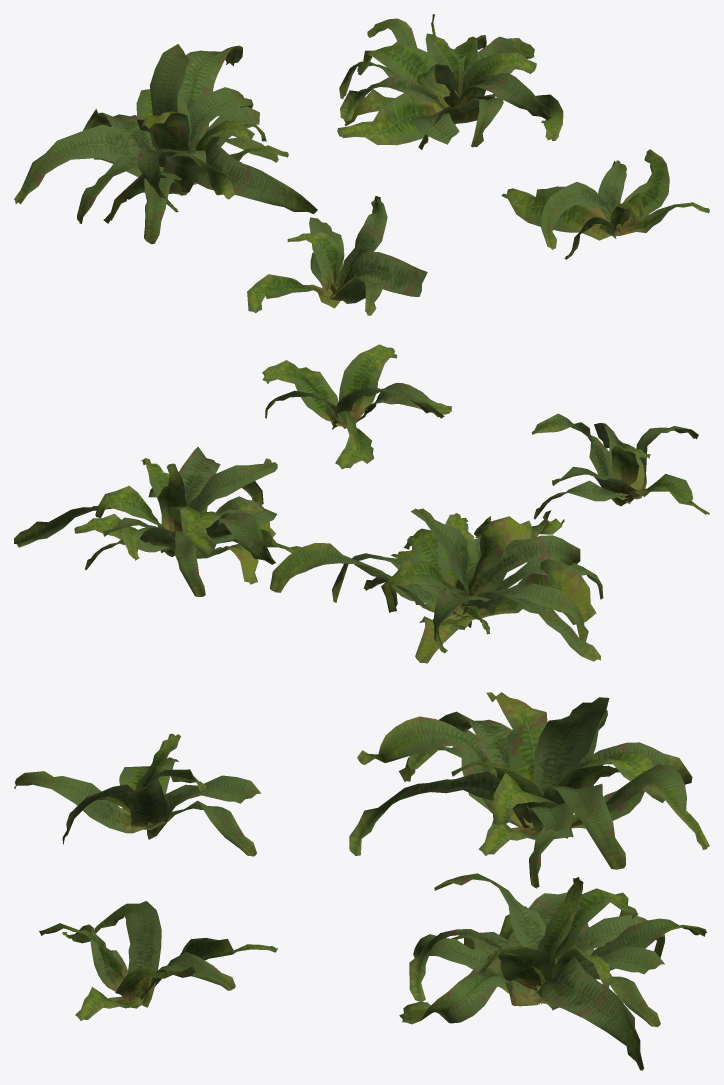
File: fern_02.glb
3 views of the same model, one above another, from view 1: azimuth 30°, elevation 25°; view 2: azimuth 150°, elevation 25°; view 3: azimuth 270°, elevation 25° (orthographic). The views are drawn at different scales.
Parts seen in each view (by area): view 1: fern_02_b; view 2: fern_02_b; view 3: fern_02_b.
Part boxes in pixels (x1,y1,x2,y2): fern_02_b: [14, 14, 709, 315]; fern_02_b: [14, 344, 709, 663]; fern_02_b: [14, 692, 709, 1070].
Size of the model in its own units: 1.97 by 0.4277 by 1.72.
Materials: 1 (1 with a texture image).
